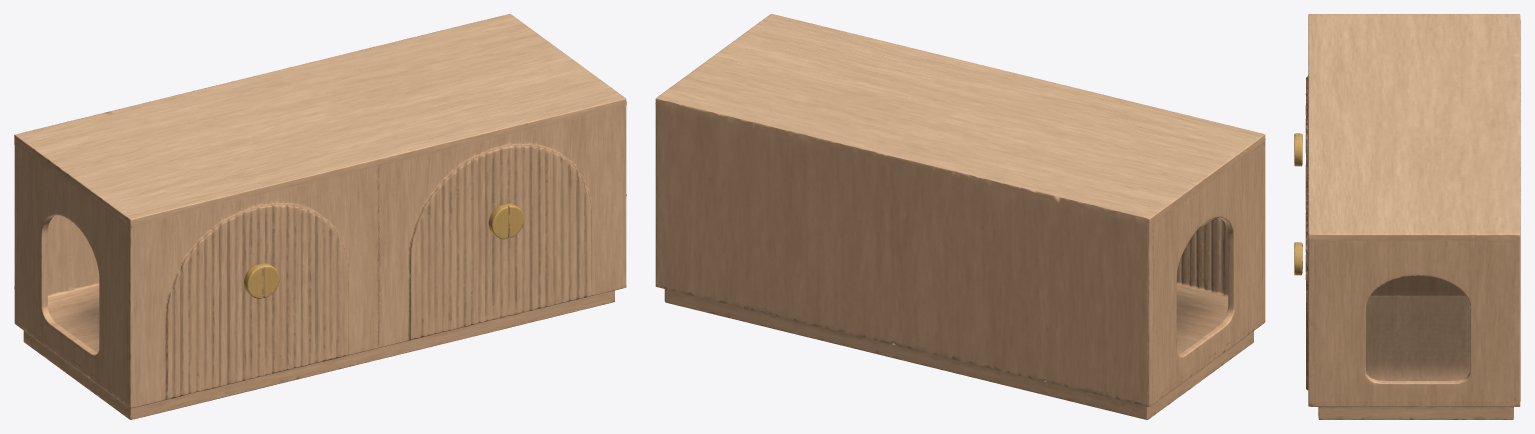
The model's file is cat-litter-cabinet-oak-refined-optimized.glb.
3 renders of one model, left to right at view 1: azimuth 30°, elevation 25°; view 2: azimuth 150°, elevation 25°; view 3: azimuth 270°, elevation 25°, orthographic. The views are drawn at different scales.
Size of the model in its own units: 1.9 by 0.755 by 0.8222.
Materials: 1 (1 with a texture image).
